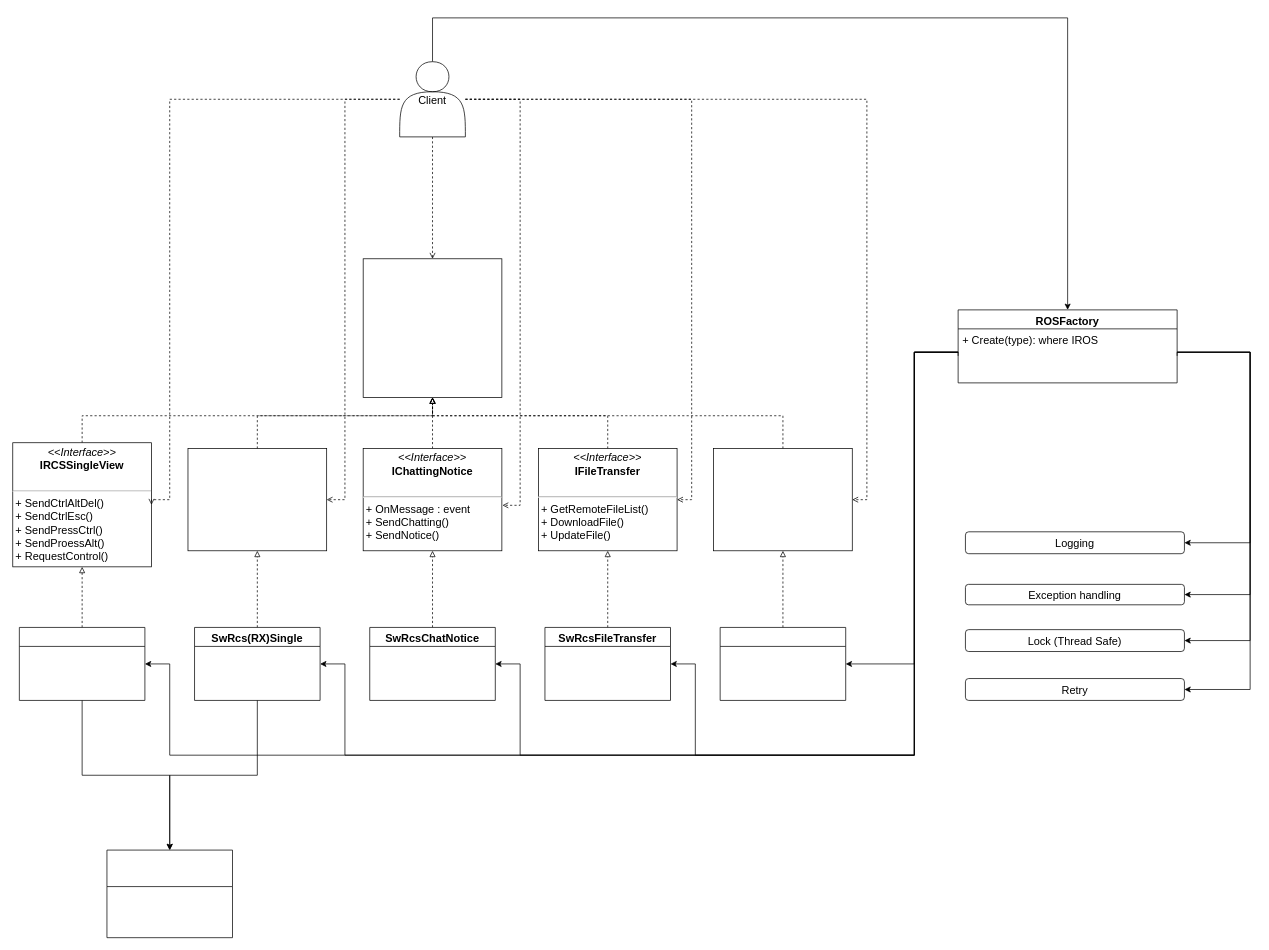
Some shapes in this 1269 by 950 pixel diagram are drawn without their labels. Here are the shapes that lost their labels. From the top down, the centre of each, then its label:
At (x=432, y=327): "<<Interface>> IROS + Connect + Disconenct + Reconnect + GetServerInfo + Dispose".
At (x=257, y=499): "<<Interface>> IRCSMultiView + ActiveRendering() + InActiveRendering()".
At (x=782, y=499): "<<Interface>> IServerManager + RemoteUpdate()".
At (x=82, y=663): "SwRcs(RX)Multi".
At (x=782, y=663): "SwRcsServerManager".
At (x=169, y=893): "<<abstract>> SwRcs(RX)Handle".
